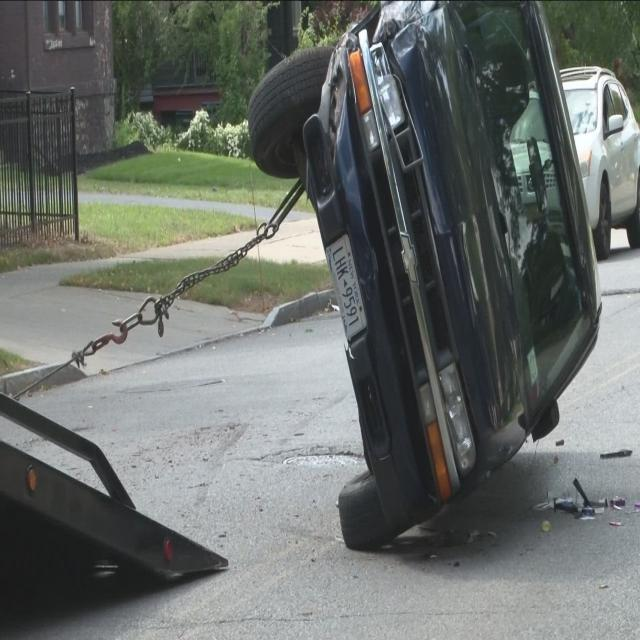Accident: (238, 2, 606, 555)
